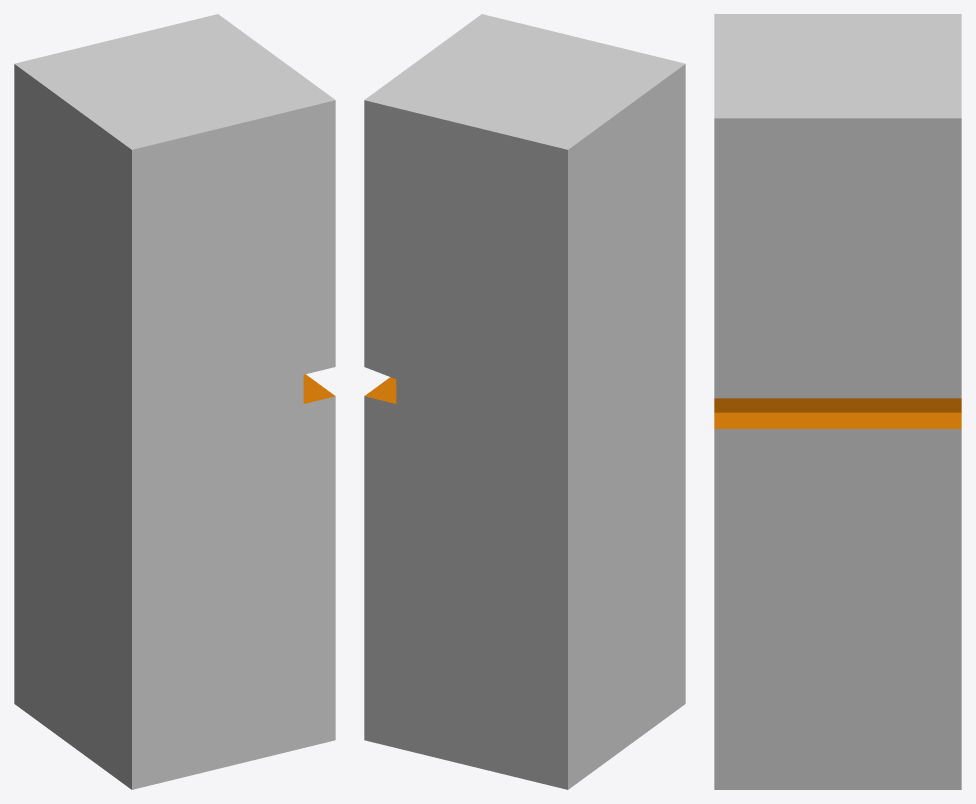
The model's file is Wall5.fbx.
3 renders of one model, left to right at view 1: azimuth 30°, elevation 25°; view 2: azimuth 150°, elevation 25°; view 3: azimuth 270°, elevation 25°, orthographic. The views are drawn at different scales.
Parts seen in each view (by area): view 1: Cube.004; view 2: Cube.004; view 3: Cube.004.
Part boxes in pixels (x1,y1,x2,y2): Cube.004: (14, 14, 335, 789); Cube.004: (364, 14, 685, 789); Cube.004: (714, 14, 961, 789).
Size of the model in its own units: 200 by 600 by 200.
